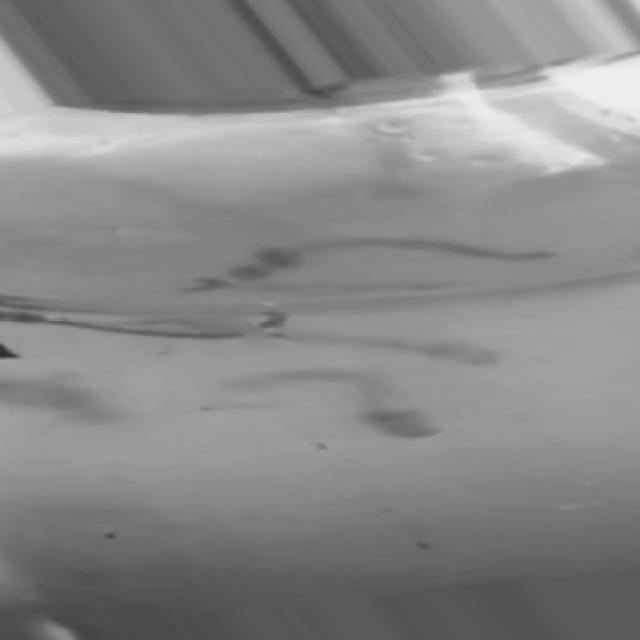larvas: (230, 375, 432, 440), (0, 305, 274, 346), (245, 242, 551, 270), (270, 332, 499, 363), (185, 273, 462, 295), (0, 372, 110, 418)
